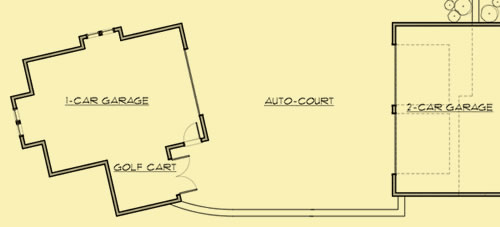door: (168, 154, 200, 197), (181, 121, 202, 147)
window: (84, 26, 118, 40), (12, 108, 28, 137)
